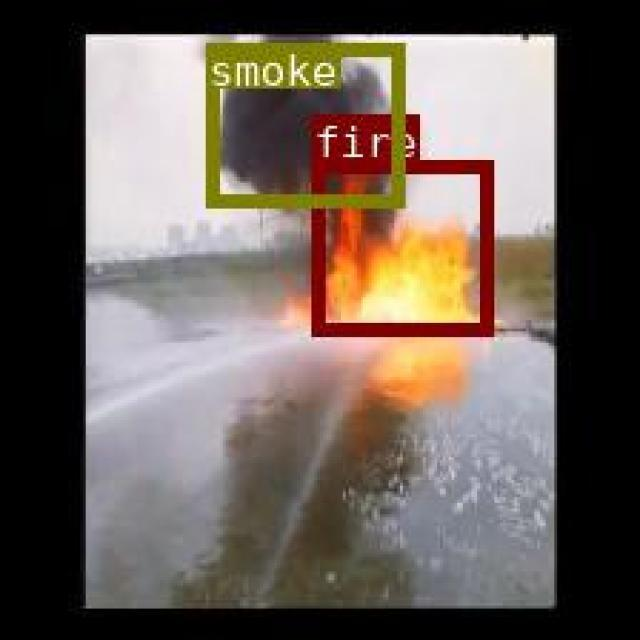fire: (310, 160, 491, 333)
smoke: (205, 41, 400, 204)
